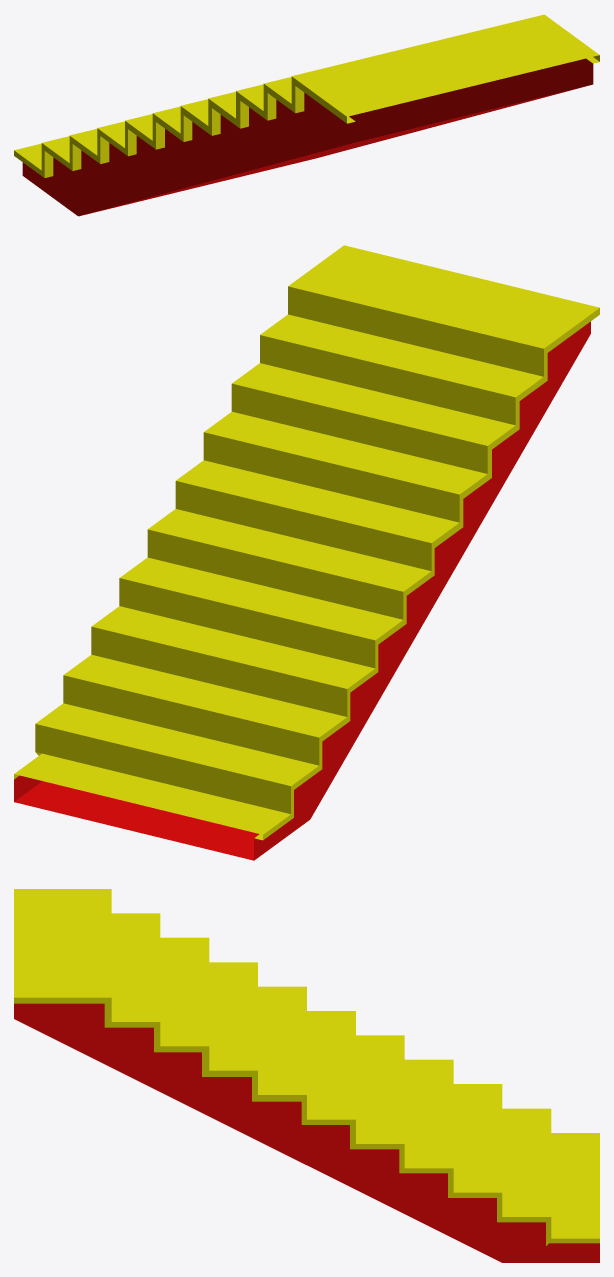
The model's file is Stair2.fbx.
3 views of the same model, one above another, from view 1: azimuth 30°, elevation 25°; view 2: azimuth 150°, elevation 25°; view 3: azimuth 270°, elevation 25° (orthographic). The views are drawn at different scales.
Parts seen in each view (by area): view 1: polySurface14; view 2: polySurface14; view 3: polySurface14.
Part boxes in pixels (box(x1,y1,x2,y2)): polySurface14: box(14, 14, 599, 216); polySurface14: box(14, 245, 599, 860); polySurface14: box(14, 889, 599, 1262).
Size of the model in its own units: 1.57 by 1.8 by 3.57.
